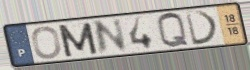4: (130, 15, 156, 51)
D: (183, 10, 221, 47)
M: (56, 21, 100, 59)
N: (91, 16, 129, 57)
O: (30, 25, 64, 60)
Q: (155, 12, 192, 50)
